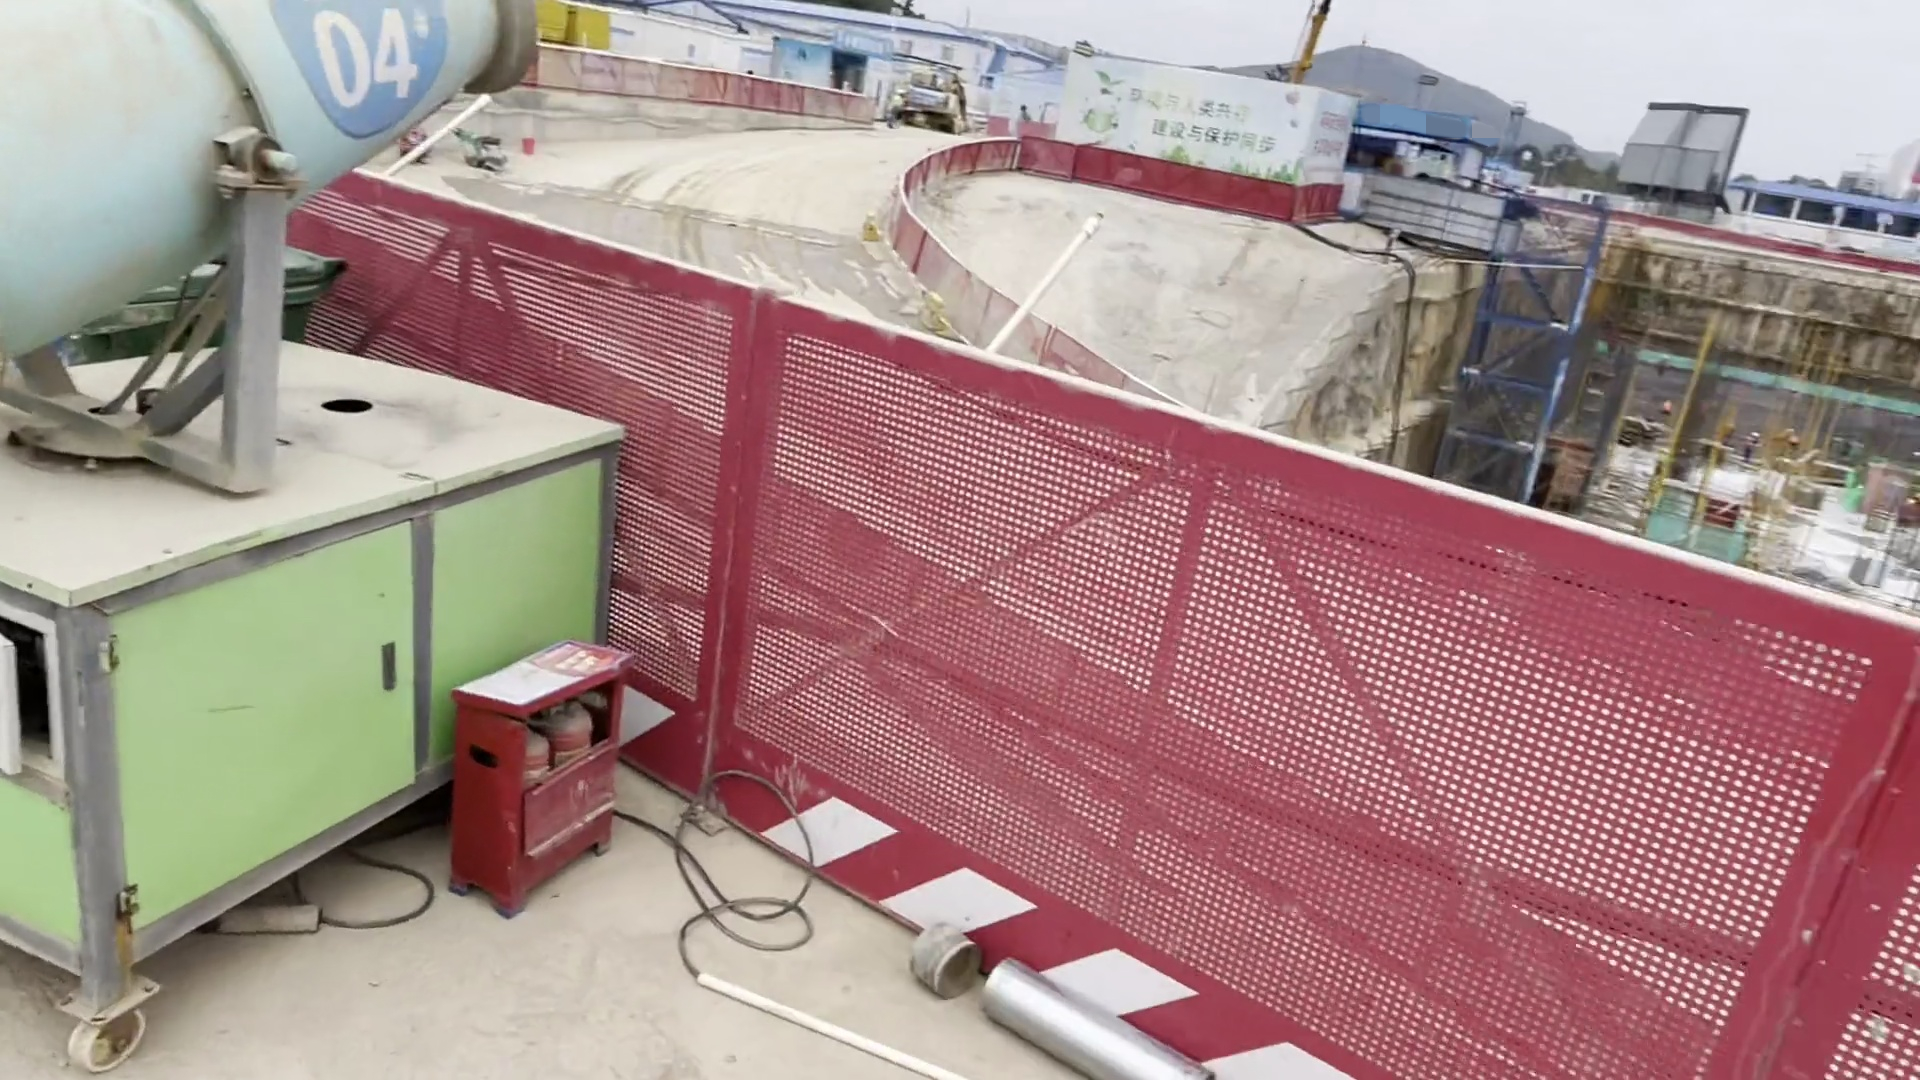fence: (733, 256, 1873, 1080), (307, 171, 715, 807), (531, 42, 872, 123), (1025, 131, 1300, 220), (913, 141, 1022, 189)
